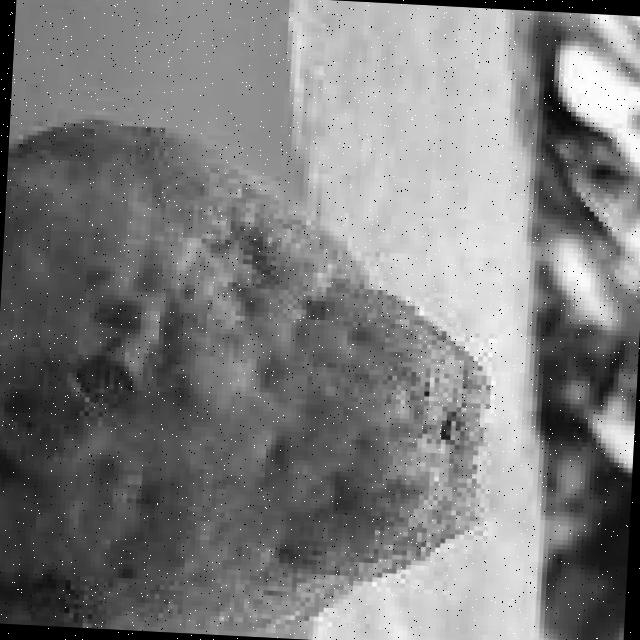Good_Guava 5-7 days: (0, 125, 486, 637)
